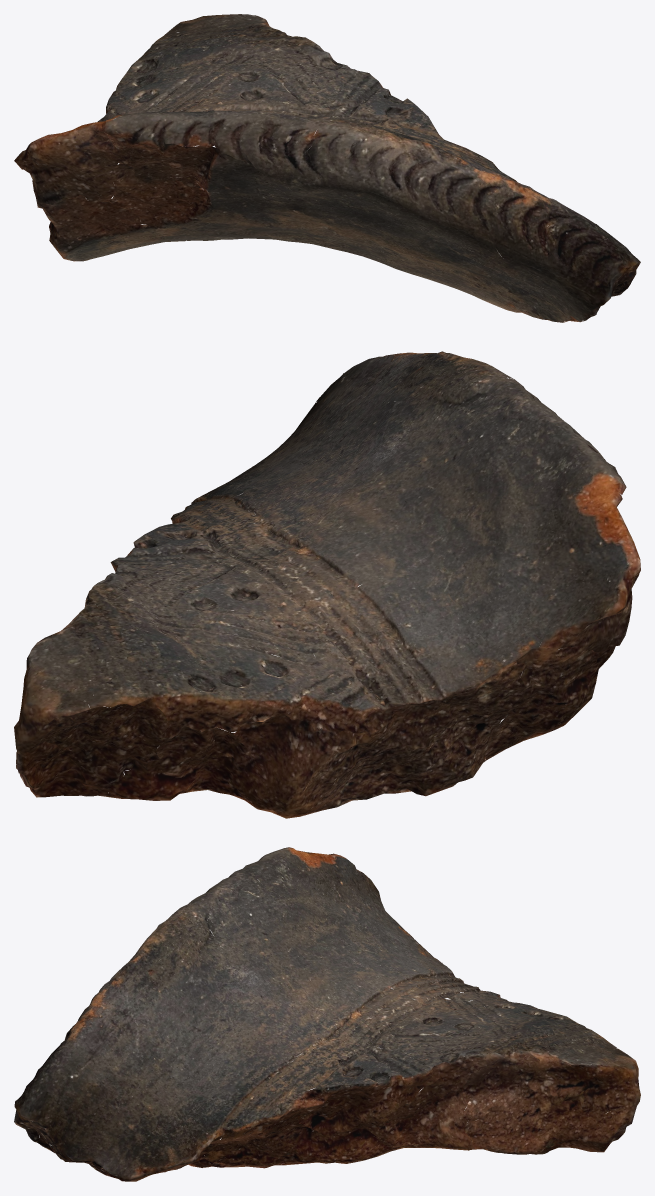
File: piece3_10000_resHi.glb
The picture shows the model from 3 angles, top to bottom: view 1: azimuth 30°, elevation 25°; view 2: azimuth 150°, elevation 25°; view 3: azimuth 270°, elevation 25°; orthographic projection. The views are drawn at different scales.
Bounding box in the file's own units: 0.0992 × 0.0454 × 0.1328.
1 material, 1 textured.
